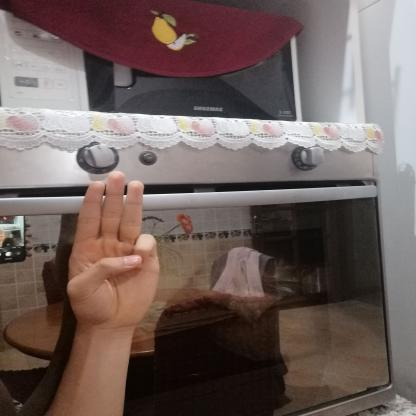THA: (51, 158, 170, 338)
